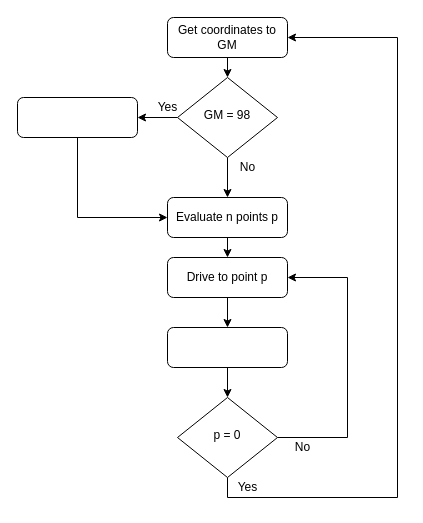
Some shapes in this 423 by 523 pixel diagram are drawn without their labels. The centre of each missing label's shape, as x and y in pixels:
"Get coordinates to start" goes at (x=77, y=117).
"p = p -1" goes at (x=227, y=347).
